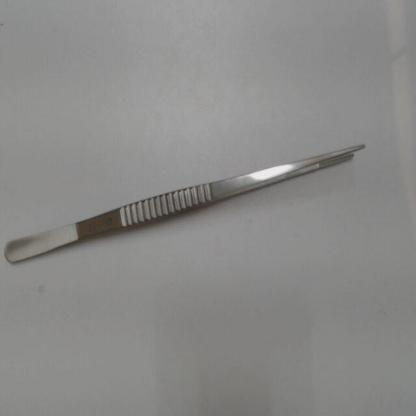DeBakey Dissector: (4, 108, 383, 270)
